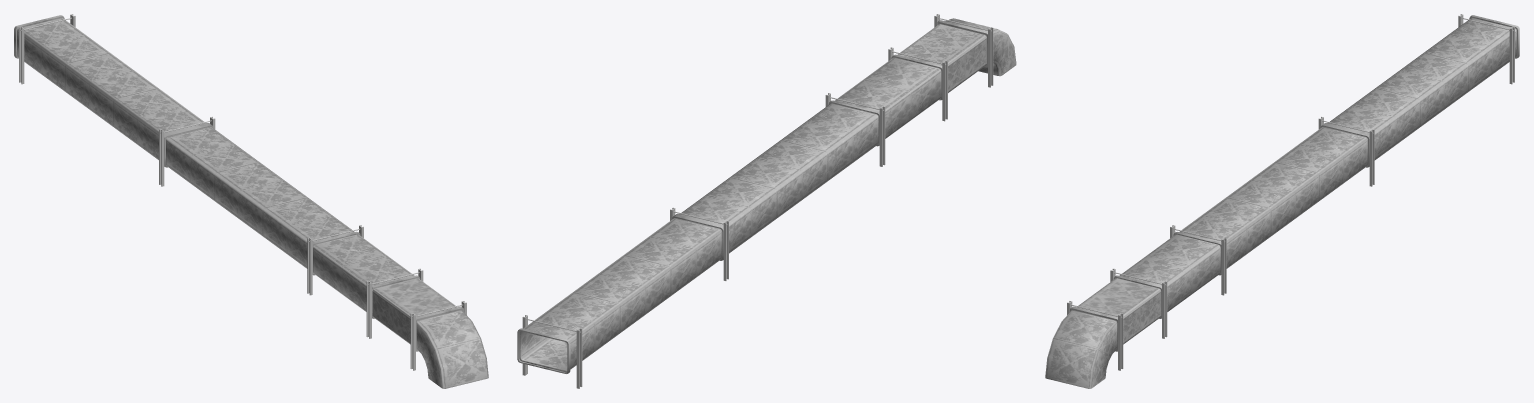
Rendered from Pipe02_E.fbx.
3 renders of one model, left to right at view 1: azimuth 30°, elevation 25°; view 2: azimuth 150°, elevation 25°; view 3: azimuth 330°, elevation 25°, orthographic. The views are drawn at different scales.
Visible parts, largest first — view 1: Pipe02_E_LOD0; view 2: Pipe02_E_LOD0; view 3: Pipe02_E_LOD0.
Boxes of the visible parts, x1,y1,x2,y2 form: Pipe02_E_LOD0: [14, 14, 488, 388]; Pipe02_E_LOD0: [517, 14, 1016, 388]; Pipe02_E_LOD0: [1045, 14, 1519, 388].
Size of what is drawn, in the model's own units: 0.5165 by 0.504 by 7.07.
